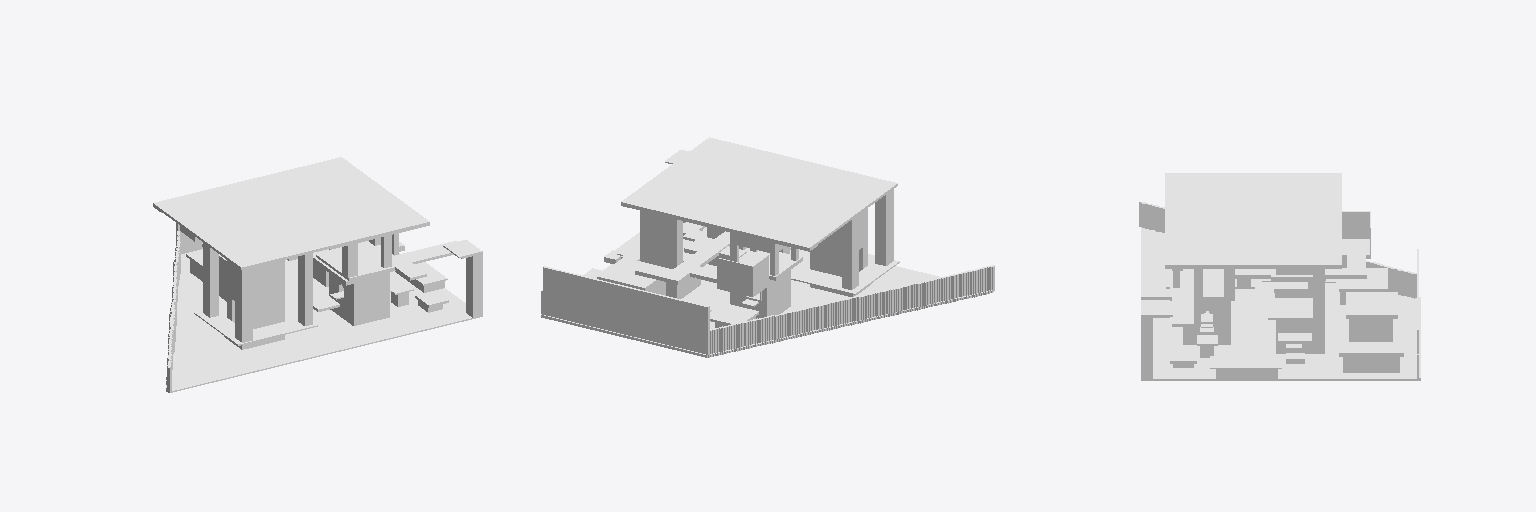
File: Mapa-2.obj
The picture shows the model from 3 angles: view 1: azimuth 30°, elevation 25°; view 2: azimuth 150°, elevation 25°; view 3: azimuth 270°, elevation 25°; orthographic projection.
Visible parts, largest first — view 1: object 1; view 2: object 1; view 3: object 1.
Boxes of the visible parts, box(x1,y1,x2,y2) form: object 1: box(153, 157, 482, 392); object 1: box(541, 137, 994, 357); object 1: box(1139, 173, 1420, 380).
Bounding box in the file's own units: 25.6 × 7.5 × 19.9.